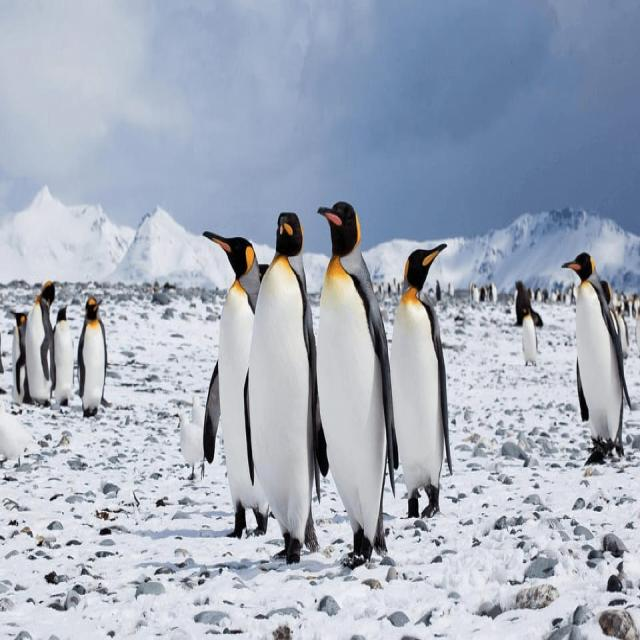Birds: (302, 183, 395, 562), (244, 197, 318, 554), (189, 215, 267, 530), (381, 224, 461, 525), (552, 243, 636, 461), (71, 284, 111, 418), (25, 276, 58, 411), (5, 294, 32, 408), (54, 301, 72, 411), (518, 301, 540, 374)
